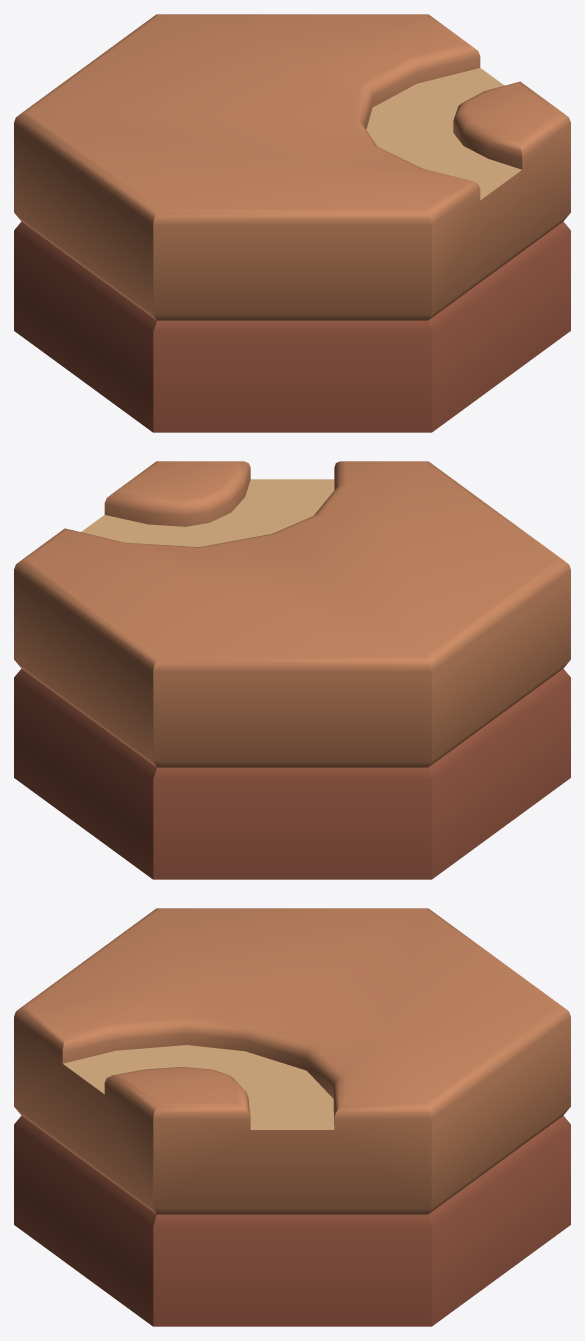
File: hex_rock_roadC_detail.glb
The picture shows the model from 3 angles, top to bottom: view 1: azimuth 30°, elevation 25°; view 2: azimuth 150°, elevation 25°; view 3: azimuth 270°, elevation 25°; orthographic projection.
Parts seen in each view (by area): view 1: hex_rock_roadC_detail; view 2: hex_rock_roadC_detail; view 3: hex_rock_roadC_detail.
Part boxes in pixels (<box>): hex_rock_roadC_detail: <box>14,14,570,432</box>; hex_rock_roadC_detail: <box>14,461,570,879</box>; hex_rock_roadC_detail: <box>14,908,570,1326</box>.
Bounding box in the file's own units: 3.43 × 1.72 × 3.96.
